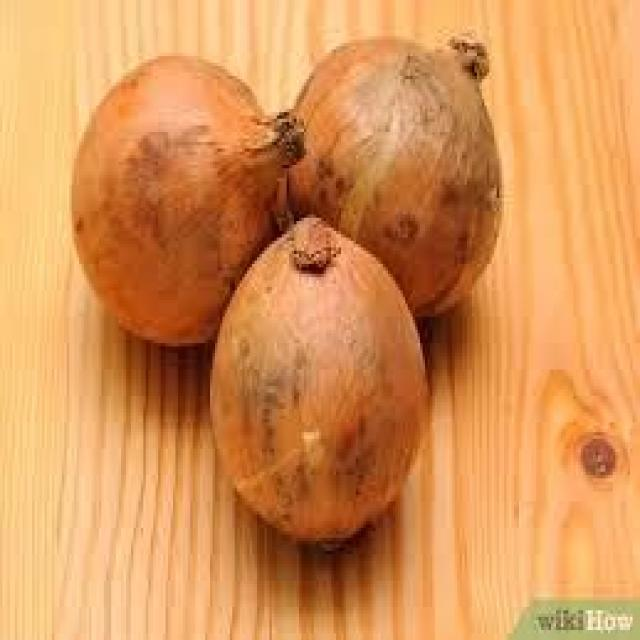Onion: (205, 211, 433, 548), (66, 50, 296, 343), (297, 40, 504, 320)
